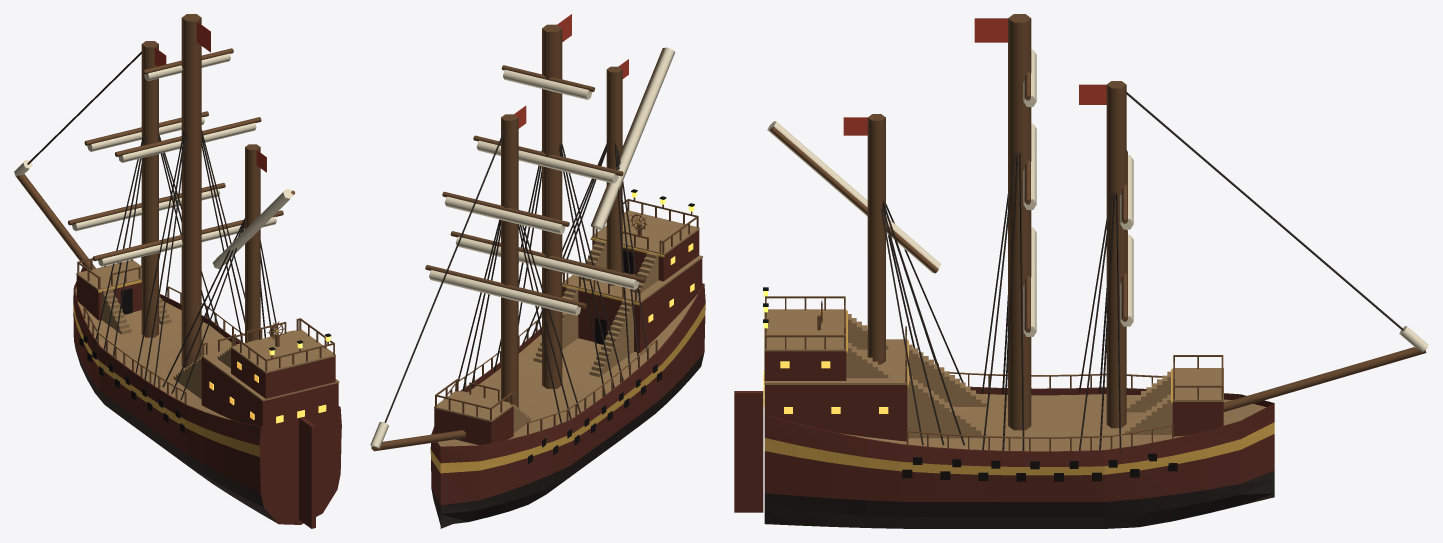
The model's file is sawyer_ship_galleon_furled.glb.
3 renders of one model, left to right at view 1: azimuth 30°, elevation 25°; view 2: azimuth 150°, elevation 25°; view 3: azimuth 270°, elevation 25°, orthographic. The views are drawn at different scales.
Parts seen in each view (by area): view 1: hull, cabin_walls (×3), mast1, mast0, cabin_roof (×3), mast2, rudder, furl_lateen2, furl_sq1_0, bowsprit, furl_sq1_1, furl_sq0_0 (+13 smaller); view 2: hull, cabin_walls (×3), mast1, mast0, cabin_roof (×3), mast2, furl_lateen2, furl_sq1_0, furl_sq0_0, furl_sq1_1, furl_sq0_1, furl_sq1_2 (+14 smaller); view 3: hull, cabin_walls (×3), mast1, cabin_roof (×3), mast0, mast2, rudder, bowsprit, furl_lateen2, lateen_yard2, forestay, flag1.
Part boxes in pixels (x1,y1,x2,y2): hull: (73,267,341,524); cabin_walls (×3): (76,275,338,449); mast1: (181,14,201,367); mast0: (141,41,158,337); cabin_roof (×3): (76,260,339,401); mast2: (245,144,260,342); rudder: (299,417,315,528); furl_lateen2: (212,188,293,269); furl_sq1_0: (98,216,276,266); bowsprit: (16,174,95,270); furl_sq1_1: (118,123,256,162); furl_sq0_0: (72,188,219,230); hull: (430,283,705,528); cabin_walls (×3): (434,230,702,445); mast1: (542,24,562,388); mast0: (501,114,518,408); cabin_roof (×3): (434,210,702,422); mast2: (606,66,622,285); furl_lateen2: (592,47,675,229); furl_sq1_0: (456,236,639,289); furl_sq0_0: (429,270,580,315); furl_sq1_1: (476,140,618,183); furl_sq0_1: (445,196,565,234); furl_sq1_2: (503,69,592,99); hull: (764,386,1274,528); cabin_walls (×3): (764,351,1223,441); mast1: (1008,14,1031,430); cabin_roof (×3): (764,309,1223,401); mast0: (1106,81,1126,428); mast2: (867,114,885,364); rudder: (734,391,763,512); bowsprit: (1223,347,1426,411); furl_lateen2: (767,121,941,273); lateen_yard2: (770,126,938,273); forestay: (1116,84,1403,330); flag1: (974,18,1007,42).
Size of the model in its own units: 17 by 36.8 by 46.29.
